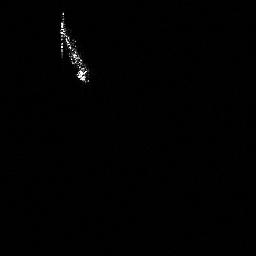ship: (56, 10, 95, 85)
